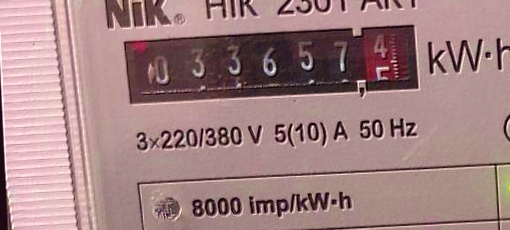0: (150, 50, 173, 88)
3: (188, 45, 209, 81), (224, 42, 244, 78)
4: (371, 30, 391, 61)
5: (294, 37, 317, 74)
6: (258, 43, 280, 79)
7: (331, 37, 350, 74)
screen: (111, 17, 428, 113)
